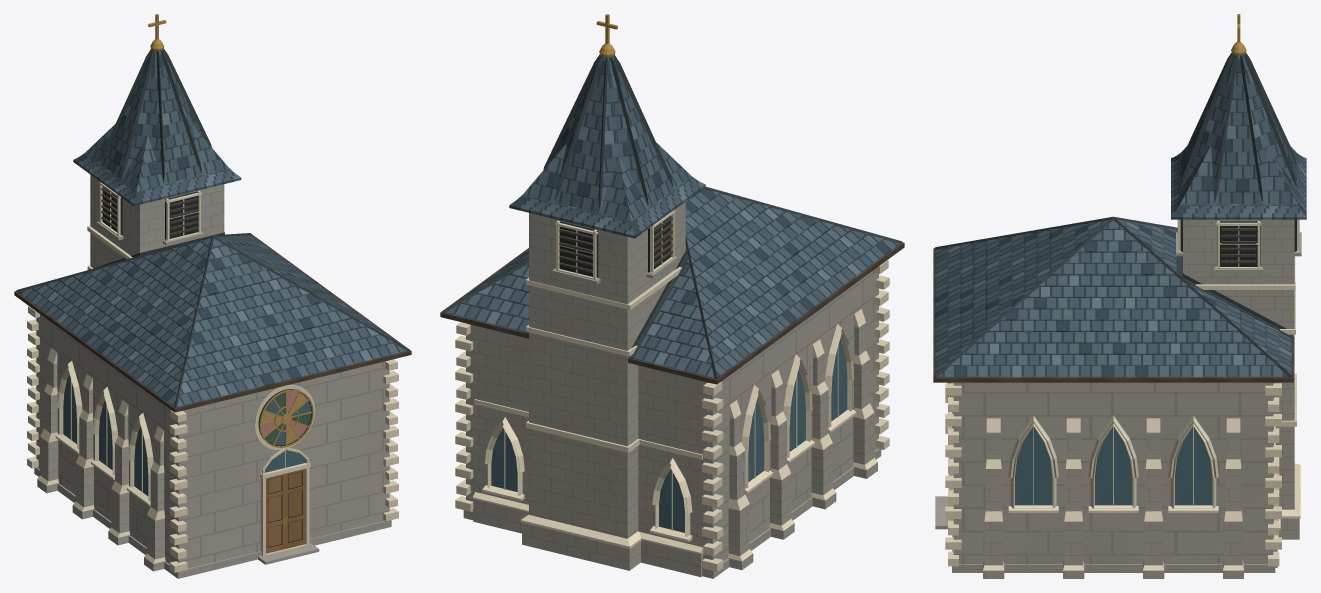
The model's file is church-crafted.glb.
3 renders of one model, left to right at view 1: azimuth 30°, elevation 25°; view 2: azimuth 150°, elevation 25°; view 3: azimuth 270°, elevation 25°, orthographic. The views are drawn at different scales.
Parts seen in each view (by area): view 1: church authored architecture; view 2: church authored architecture; view 3: church authored architecture.
Boxes of the visible parts, x1,y1,x2,y2 form: church authored architecture: (14, 14, 411, 578); church authored architecture: (440, 14, 904, 578); church authored architecture: (933, 14, 1306, 578).
Bounding box in the file's own units: 11.24 × 20.16 × 13.65.
1 material, 1 textured.
